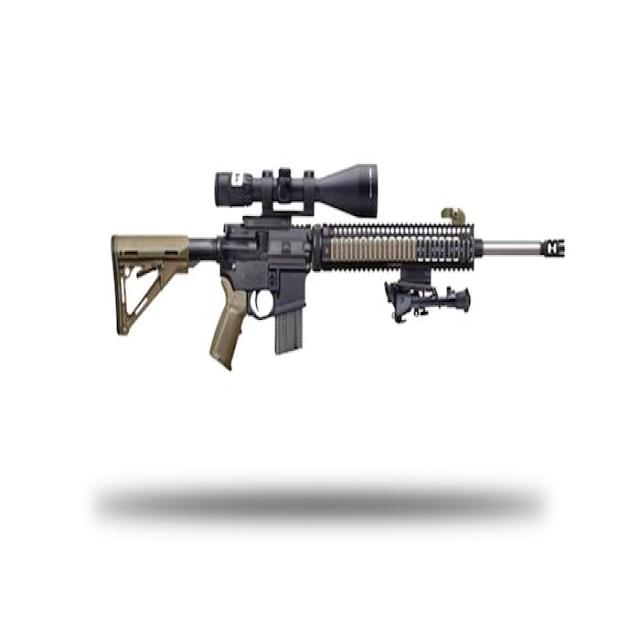Rifle: (111, 162, 567, 370)
